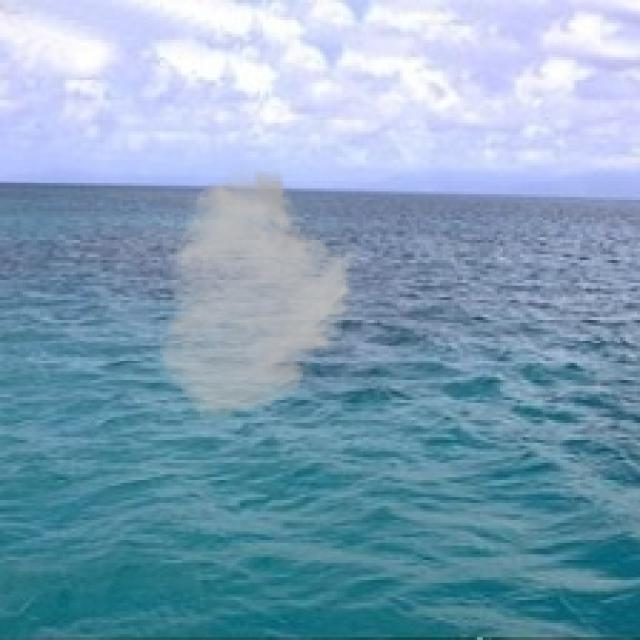smoke: (157, 166, 363, 423)
